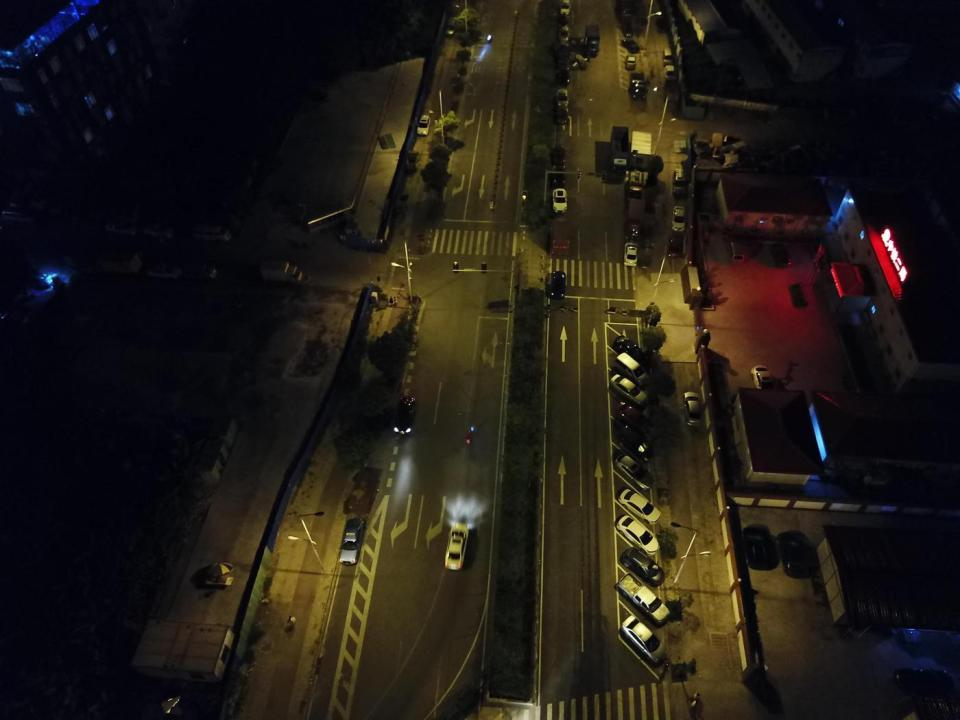bus: (302, 200, 356, 235)
car: (621, 614, 665, 663), (618, 546, 666, 587), (616, 514, 660, 556), (617, 488, 662, 525), (741, 526, 776, 570), (616, 424, 656, 461), (614, 454, 654, 490), (779, 532, 811, 577), (609, 374, 649, 407), (339, 518, 366, 566), (444, 522, 470, 571), (614, 401, 653, 433), (612, 336, 649, 368), (393, 395, 416, 434), (193, 222, 232, 242), (682, 391, 702, 426), (750, 364, 774, 392), (183, 262, 218, 280), (769, 243, 791, 267), (550, 270, 566, 299), (623, 241, 639, 267), (666, 236, 684, 258), (671, 206, 686, 232), (552, 189, 568, 213), (556, 42, 571, 66), (416, 114, 430, 137), (552, 164, 566, 186), (552, 143, 566, 165), (621, 38, 640, 54), (555, 104, 568, 125), (557, 88, 570, 107), (557, 66, 570, 84), (557, 26, 570, 42), (560, 0, 571, 15)
truck: (616, 571, 670, 624), (623, 198, 647, 242), (259, 261, 303, 283), (549, 215, 571, 255), (584, 24, 600, 58), (629, 72, 647, 100)
van: (613, 352, 648, 386), (671, 168, 688, 197), (728, 238, 745, 265), (444, 15, 457, 36), (663, 64, 677, 80), (661, 47, 673, 64), (624, 55, 636, 69)
